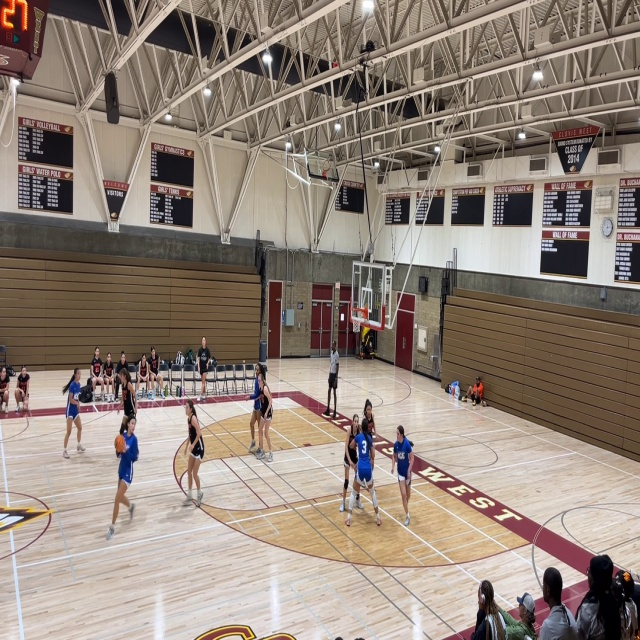Basketball: (114, 435, 126, 453)
